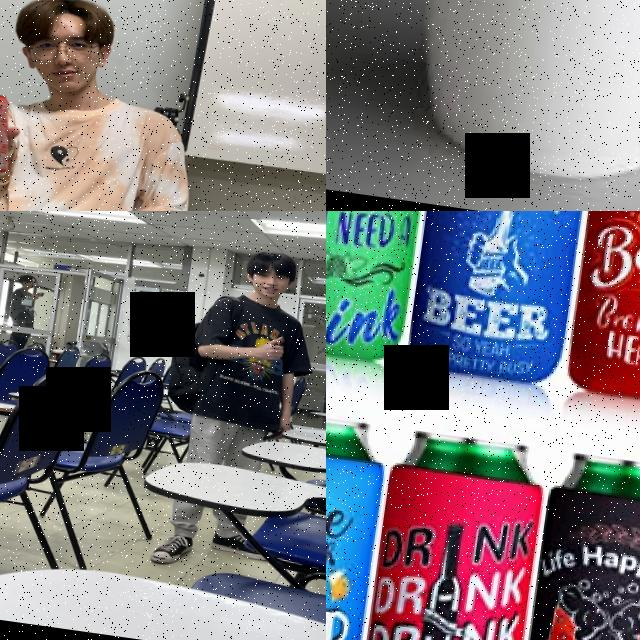can: (351, 423, 548, 640), (396, 211, 595, 388), (520, 447, 640, 640), (326, 211, 434, 367), (560, 211, 640, 411), (326, 401, 388, 640), (0, 88, 21, 179)
cup: (332, 0, 640, 208)
